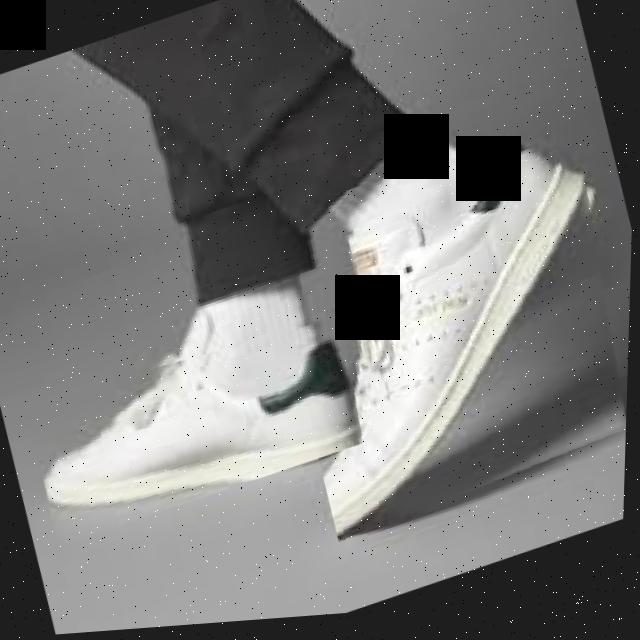shoe: (254, 118, 636, 553), (24, 302, 374, 549)
